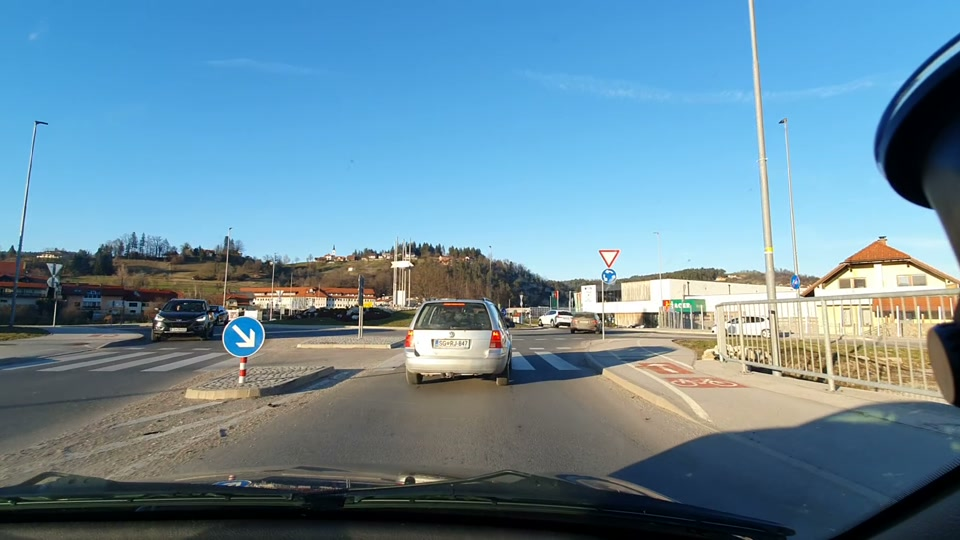vehicle_ign: (404, 290, 517, 399)
vehicle_s: (148, 297, 215, 348)
